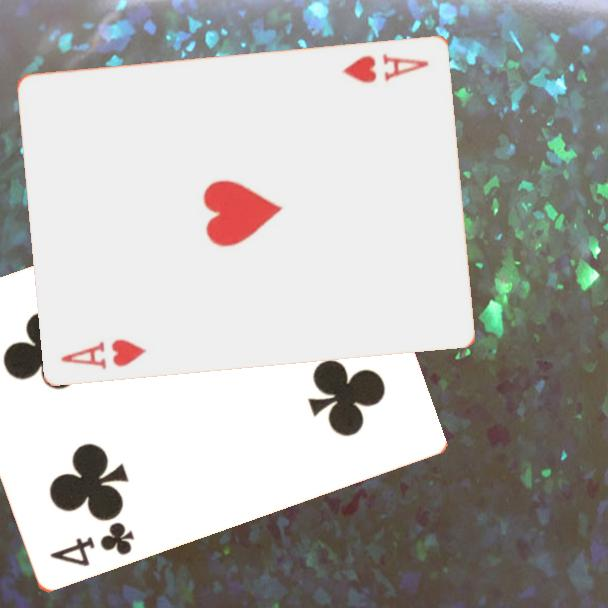c04: (46, 519, 138, 570)
h01: (339, 49, 432, 86), (58, 335, 150, 372)
